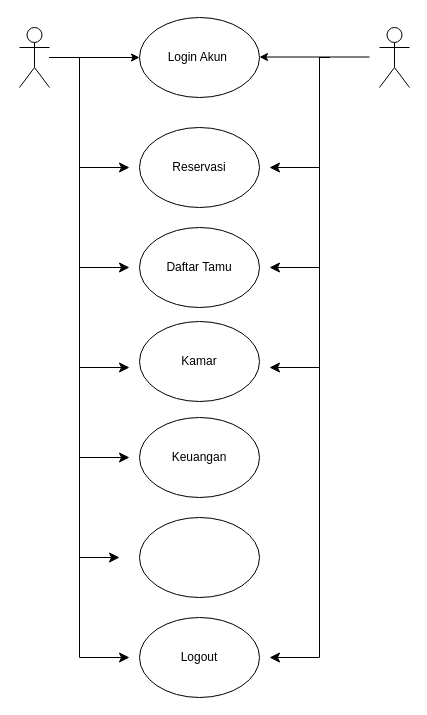
This 427x715 diagram has some shape labels left out. Each missing label, with the centre of its shape:
Actor: point (394, 57)
Admin: point (34, 57)
Pegawai: point (199, 557)
